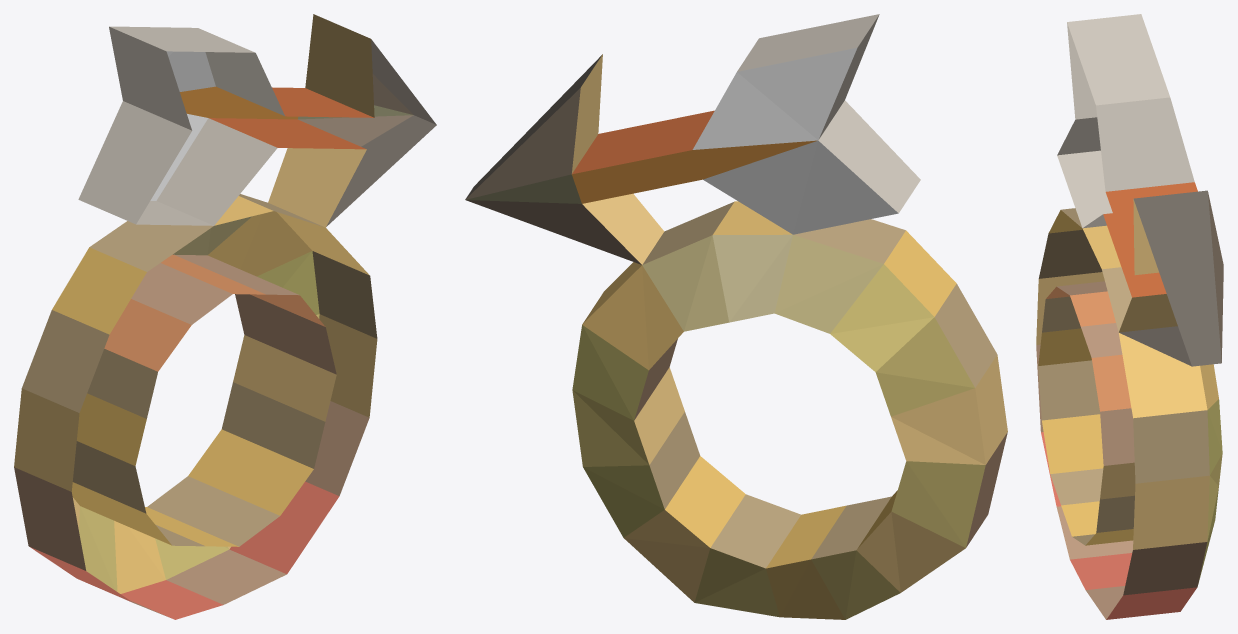
The model's file is BingoItemStandsRing.glb.
3 renders of one model, left to right at view 1: azimuth 30°, elevation 25°; view 2: azimuth 150°, elevation 25°; view 3: azimuth 270°, elevation 25°, orthographic. The views are drawn at different scales.
Visible parts, largest first — view 1: Object (2); view 2: Object (2); view 3: Object (2).
Boxes of the visible parts, x1,y1,x2,y2 form: Object (2): (14, 14, 436, 619); Object (2): (465, 14, 1007, 619); Object (2): (1036, 14, 1223, 619).
Bounding box in the file's own units: 0.8737 × 1.03 × 0.3267.
